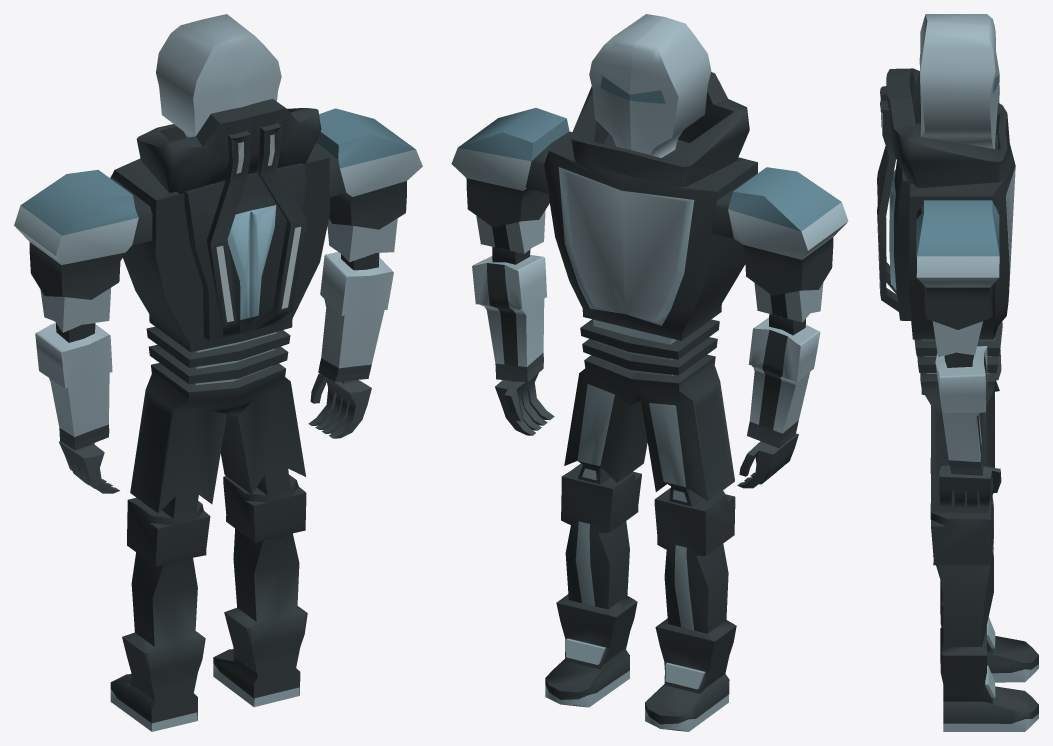
File: robot.fbx
3 renders of one model, left to right at view 1: azimuth 30°, elevation 25°; view 2: azimuth 150°, elevation 25°; view 3: azimuth 270°, elevation 25°, orthographic. The views are drawn at different scales.
Parts seen in each view (by area): view 1: Cube; view 2: Cube; view 3: Cube.
Boxes of the visible parts, box(x1,y1,x2,y2) form: Cube: box(14, 14, 422, 731); Cube: box(451, 14, 848, 731); Cube: box(877, 14, 1038, 731).
Size of the model in its own units: 170 by 301 by 65.54.
Materials: 1 (1 with a texture image).
